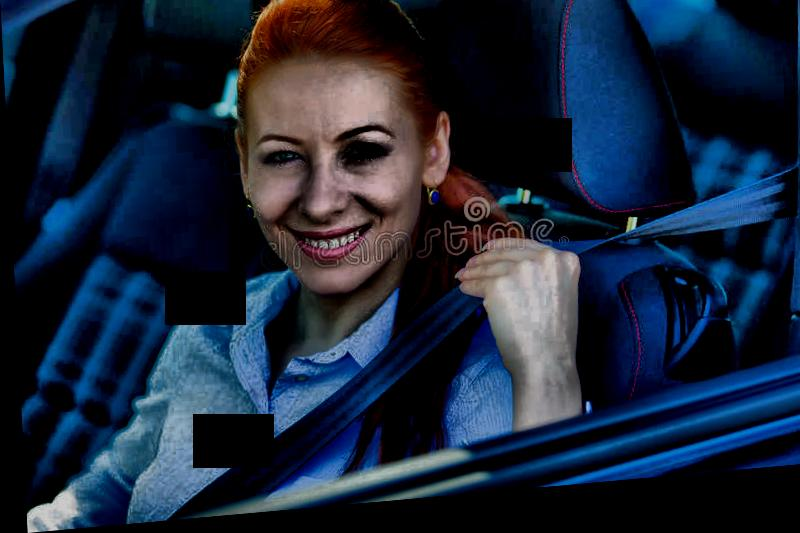seatbelt: (145, 186, 800, 520)
